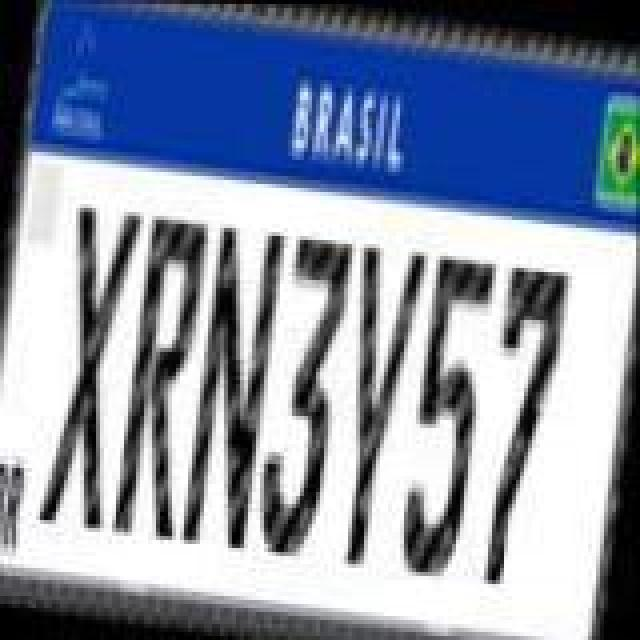3: (250, 230, 354, 562)
5: (394, 246, 498, 582)
7: (470, 254, 574, 590)
N: (176, 218, 284, 554)
R: (114, 212, 218, 544)
X: (36, 200, 144, 540)
Y: (322, 242, 426, 574)
